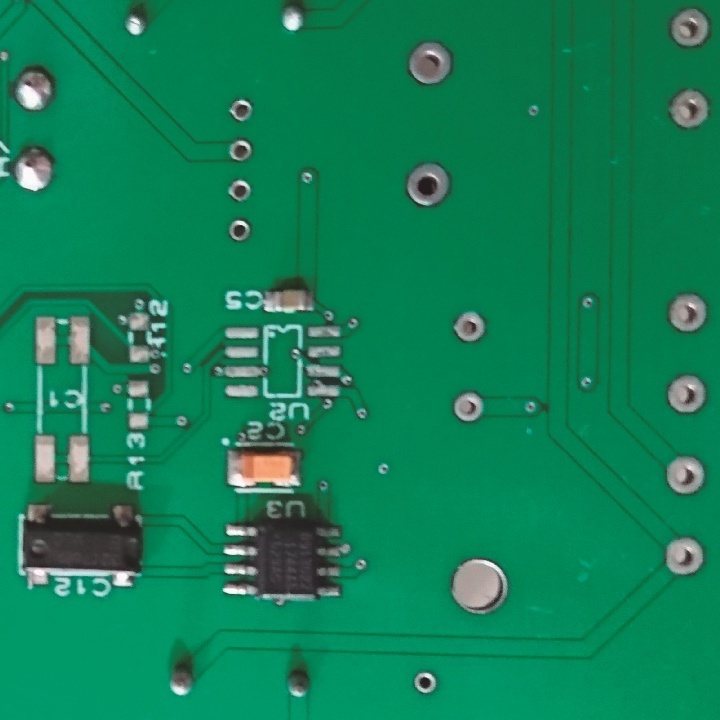F: (403, 161, 453, 209), (407, 38, 456, 86), (663, 449, 706, 499), (667, 6, 712, 52), (667, 86, 710, 131), (665, 289, 708, 334), (665, 370, 707, 416), (662, 534, 704, 578), (449, 387, 485, 424), (451, 309, 489, 344), (228, 137, 255, 166), (227, 176, 253, 206), (413, 669, 439, 697), (227, 98, 253, 123), (227, 220, 251, 243)
